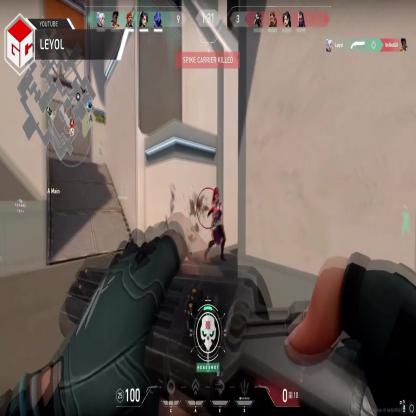enemy: (205, 191, 225, 262)
enemy_head: (213, 190, 219, 200)
